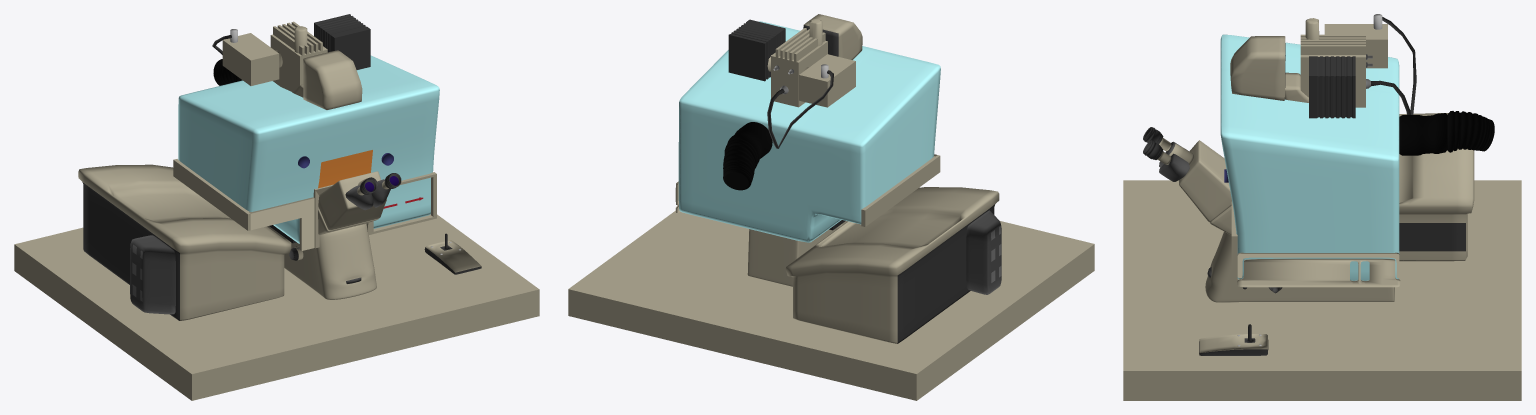
File: moaconfocalmicroscope(1).glb
3 renders of one model, left to right at view 1: azimuth 30°, elevation 25°; view 2: azimuth 150°, elevation 25°; view 3: azimuth 270°, elevation 25°, orthographic. The views are drawn at different scales.
Visible parts, largest first — view 1: Confocal-Exterior, Exterior-Glass; view 2: Confocal-Exterior, Exterior-Glass; view 3: Confocal-Exterior, Exterior-Glass.
Part boxes in pixels (bbox=[...]): Confocal-Exterior: bbox=[14, 14, 539, 400]; Exterior-Glass: bbox=[178, 55, 439, 243]; Confocal-Exterior: bbox=[568, 14, 1094, 400]; Exterior-Glass: bbox=[678, 21, 940, 242]; Confocal-Exterior: bbox=[1123, 14, 1521, 400]; Exterior-Glass: bbox=[1220, 34, 1399, 280].
Bounding box in the file's own units: 16.3 × 11.82 × 14.41.
